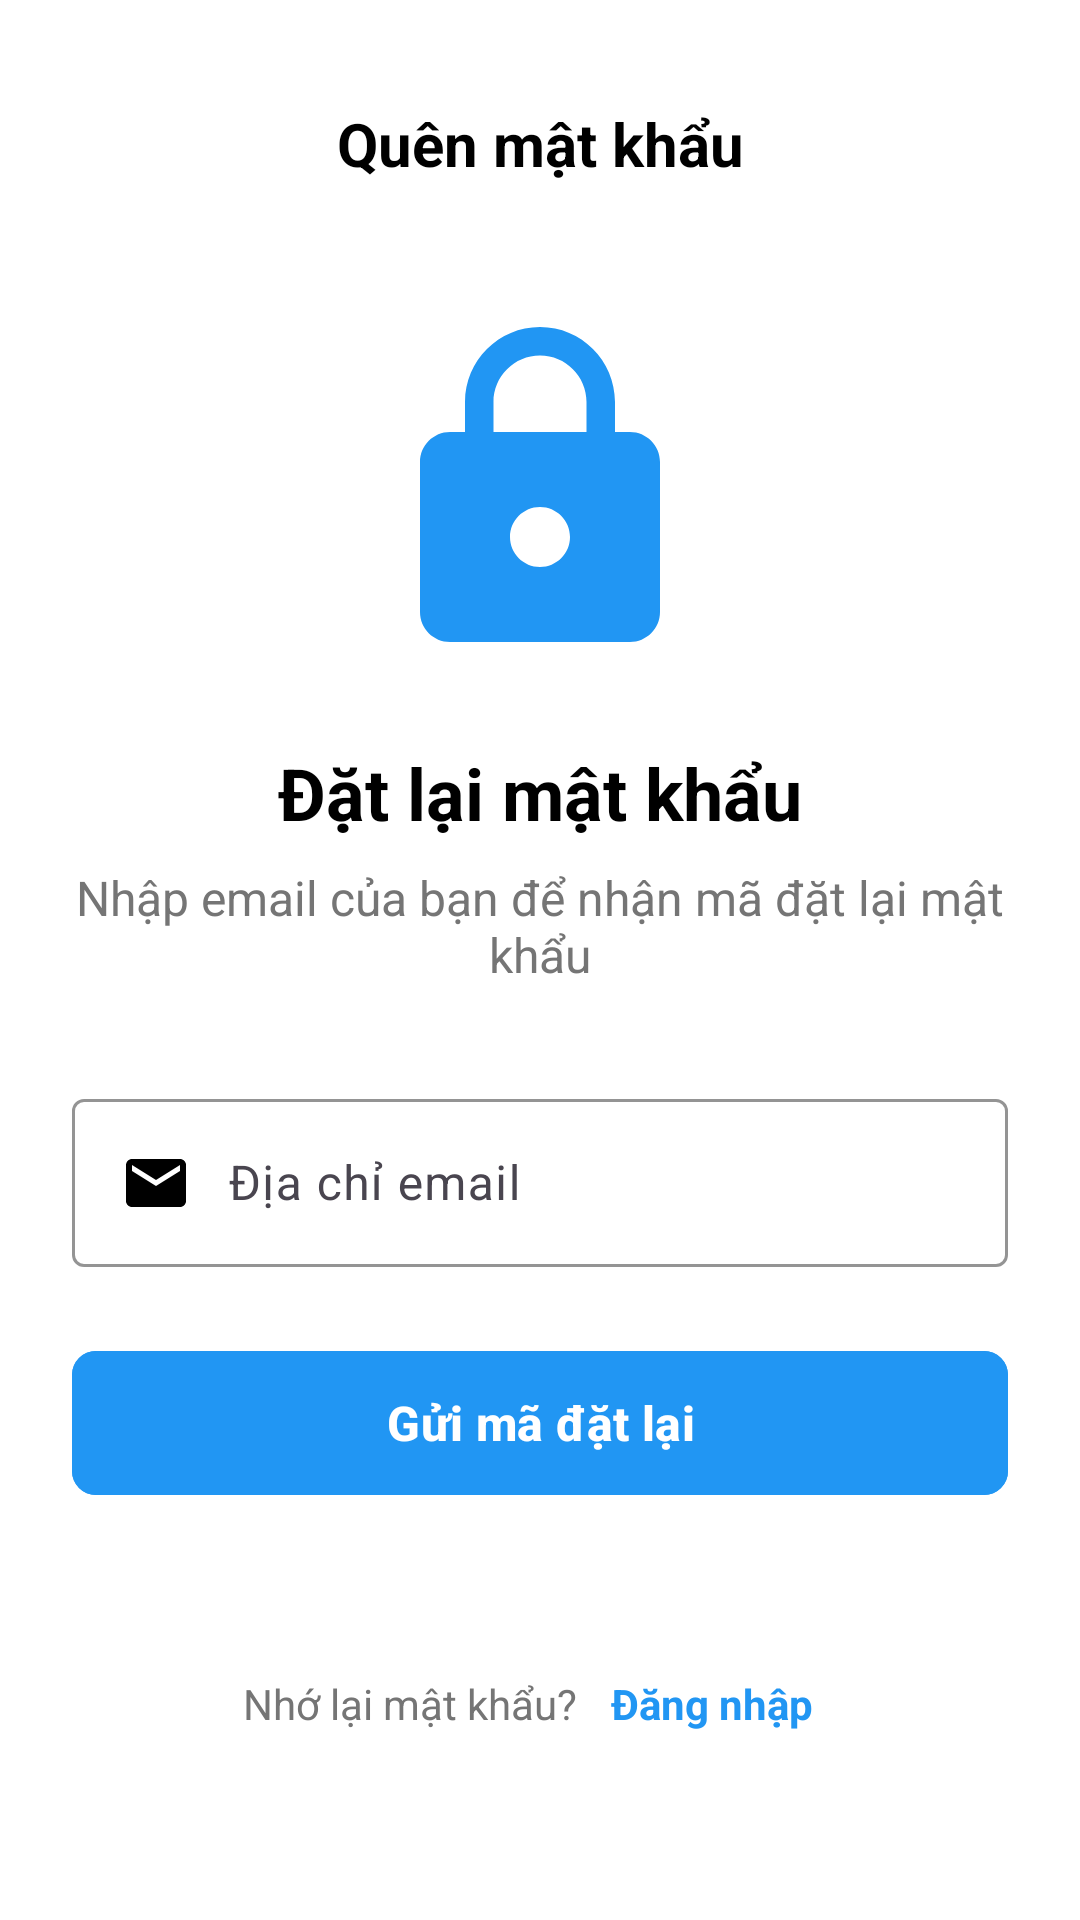

Screen size 1080px x 1920px. Icon name, then its box in pixels as {"left": x1, "top": y1, "right": x2, "bottom": y2}:
lock reset: {"left": 420, "top": 327, "right": 660, "bottom": 642}
